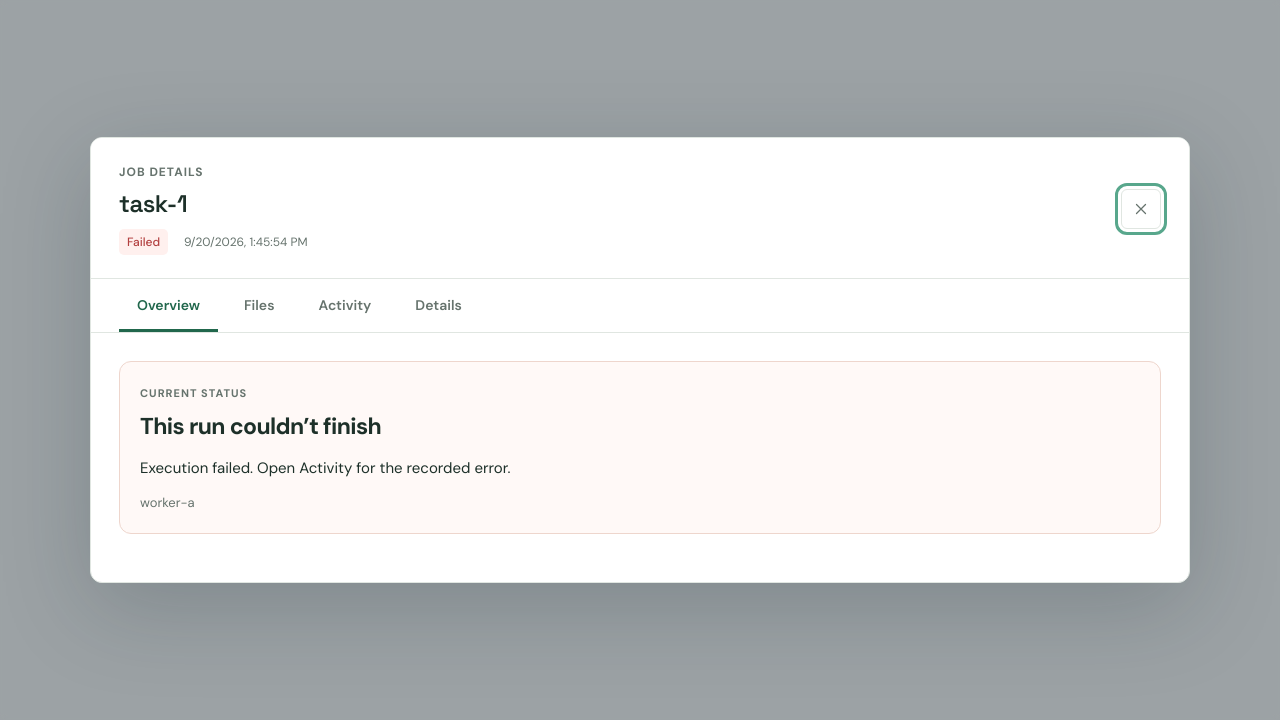
preserves underscores in worker messages
The image size is (1280, 720).
Click the button "Activity" at (345, 306), box [300,279,389,332]
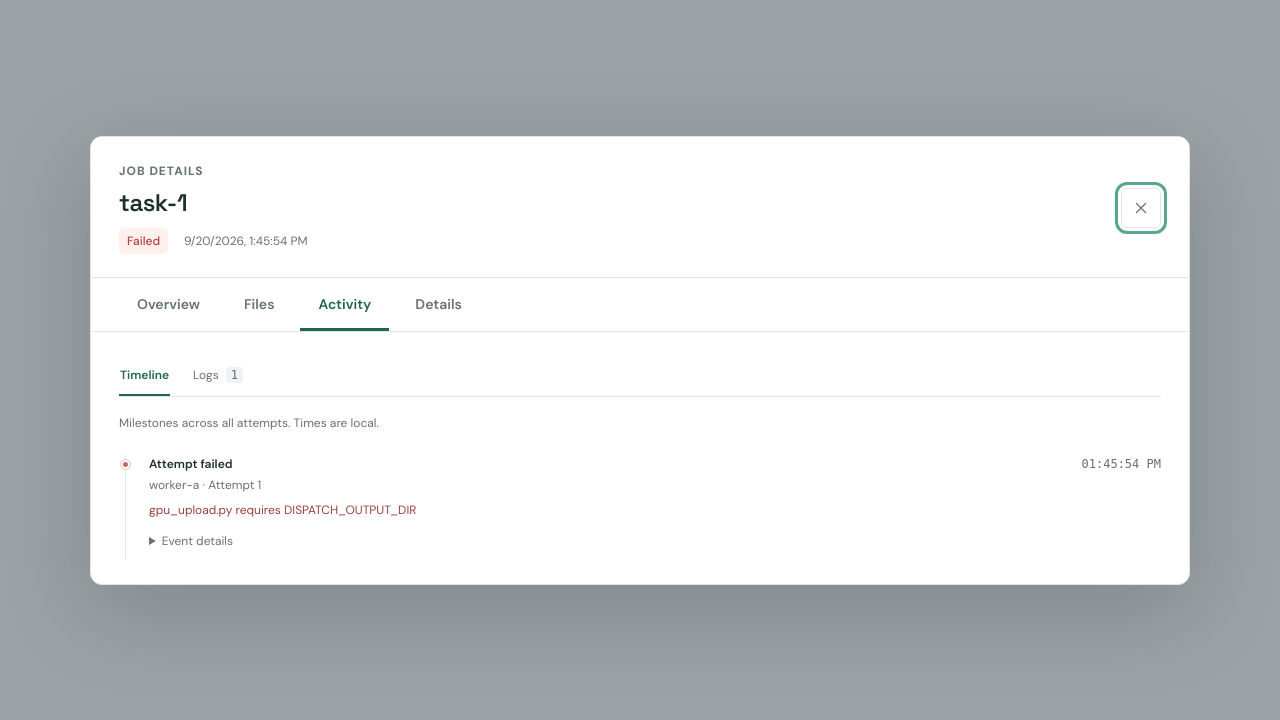
Result: the text "gpu_upload.py requires DISPATCH_OUTPUT_DIR" is shown at [149,502,416,518]
